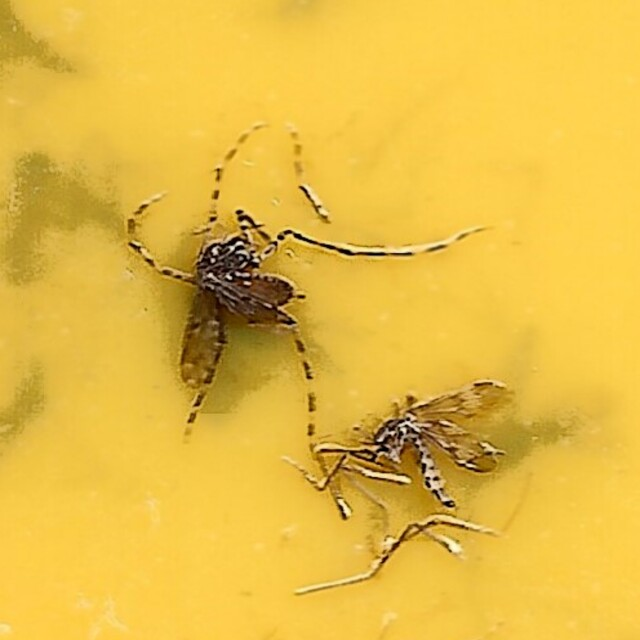Nematocera: (129, 122, 468, 464), (311, 376, 511, 518)
